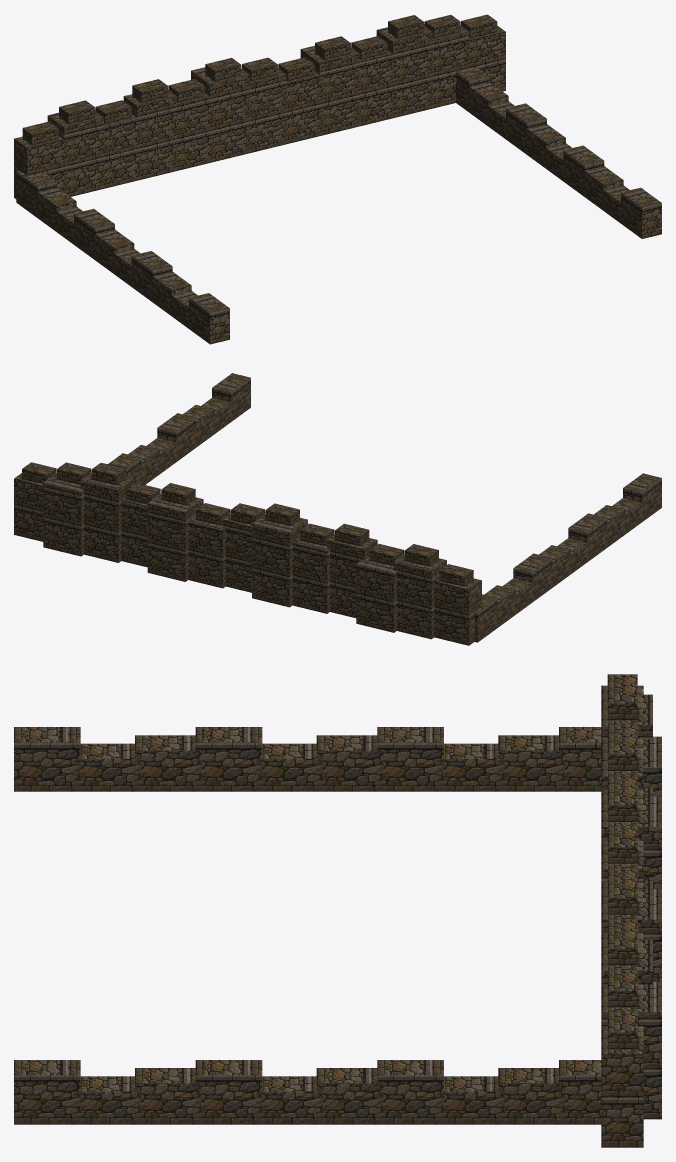
The model's file is rm_cliffcave.glb.
The picture shows the model from 3 angles, top to bottom: view 1: azimuth 30°, elevation 25°; view 2: azimuth 150°, elevation 25°; view 3: azimuth 270°, elevation 25°; orthographic projection. The views are drawn at different scales.
Visible parts, largest first — view 1: rock; view 2: rock; view 3: rock.
Part boxes in pixels (x1,y1,x2,y2): rock: [14, 14, 661, 344]; rock: [14, 373, 661, 645]; rock: [14, 674, 661, 1147].
Bounding box in the file's own units: 290 × 50.98 × 214.
1 material, 1 textured.
